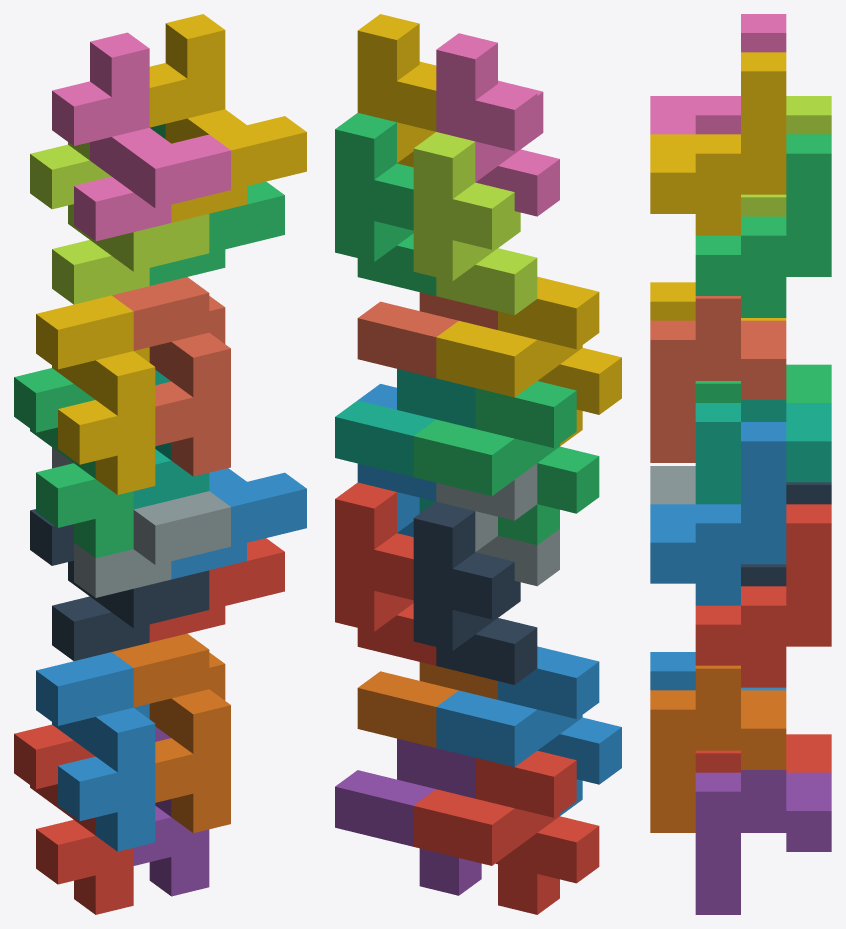
The model's file is tiling.obj.
The picture shows the model from 3 angles, left to right: view 1: azimuth 30°, elevation 25°; view 2: azimuth 150°, elevation 25°; view 3: azimuth 270°, elevation 25°; orthographic projection. The views are drawn at different scales.
Parts seen in each view (by area): view 1: copy_2_domain_4, copy_1_domain_2, copy_1_domain_4, copy_1_domain_6, copy_1_domain_8, copy_2_domain_8, copy_2_domain_3, copy_1_domain_1, copy_1_domain_3, copy_2_domain_1, copy_2_domain_2, copy_2_domain_6 (+4 smaller); view 2: copy_1_domain_1, copy_1_domain_3, copy_2_domain_1, copy_2_domain_3, copy_1_domain_2, copy_1_domain_4, copy_2_domain_4, copy_2_domain_5, copy_2_domain_7, copy_1_domain_5, copy_1_domain_7, copy_2_domain_8 (+4 smaller); view 3: copy_2_domain_8, copy_2_domain_6, copy_1_domain_6, copy_1_domain_8, copy_2_domain_5, copy_2_domain_7, copy_1_domain_5, copy_1_domain_7, copy_2_domain_4, copy_1_domain_1, copy_2_domain_3, copy_1_domain_3 (+4 smaller).
Part boxes in pixels (x1,y1,x2,y2): copy_2_domain_4: (52, 32, 230, 241); copy_1_domain_2: (36, 652, 155, 851); copy_1_domain_4: (36, 295, 155, 494); copy_1_domain_6: (112, 633, 230, 833); copy_1_domain_8: (112, 277, 230, 476); copy_2_domain_8: (149, 14, 306, 222); copy_2_domain_3: (30, 142, 209, 304); copy_1_domain_1: (14, 724, 133, 914); copy_1_domain_3: (14, 368, 133, 558); copy_2_domain_1: (30, 509, 209, 660); copy_2_domain_2: (52, 447, 230, 597); copy_2_domain_6: (171, 468, 306, 579); copy_1_domain_1: (413, 750, 599, 914); copy_1_domain_3: (413, 381, 599, 545); copy_2_domain_1: (413, 501, 537, 684); copy_2_domain_3: (413, 132, 537, 315); copy_1_domain_2: (436, 646, 621, 815); copy_1_domain_4: (436, 276, 621, 446); copy_2_domain_4: (436, 33, 559, 216); copy_2_domain_5: (335, 482, 436, 665); copy_2_domain_7: (335, 113, 436, 295); copy_1_domain_5: (335, 738, 497, 895); copy_1_domain_7: (335, 369, 475, 513); copy_2_domain_8: (357, 14, 436, 167); copy_2_domain_8: (650, 52, 786, 235); copy_2_domain_6: (650, 422, 786, 605); copy_1_domain_6: (650, 665, 786, 832); copy_1_domain_8: (650, 296, 786, 462); copy_2_domain_5: (695, 504, 831, 687); copy_2_domain_7: (695, 134, 831, 317); copy_1_domain_5: (695, 770, 831, 914); copy_1_domain_7: (695, 400, 831, 504); copy_2_domain_4: (650, 14, 786, 134); copy_1_domain_1: (695, 734, 831, 772); copy_2_domain_3: (741, 96, 831, 216); copy_1_domain_3: (695, 364, 831, 402).
Bounding box in the file's own units: 6 × 21 × 4.
